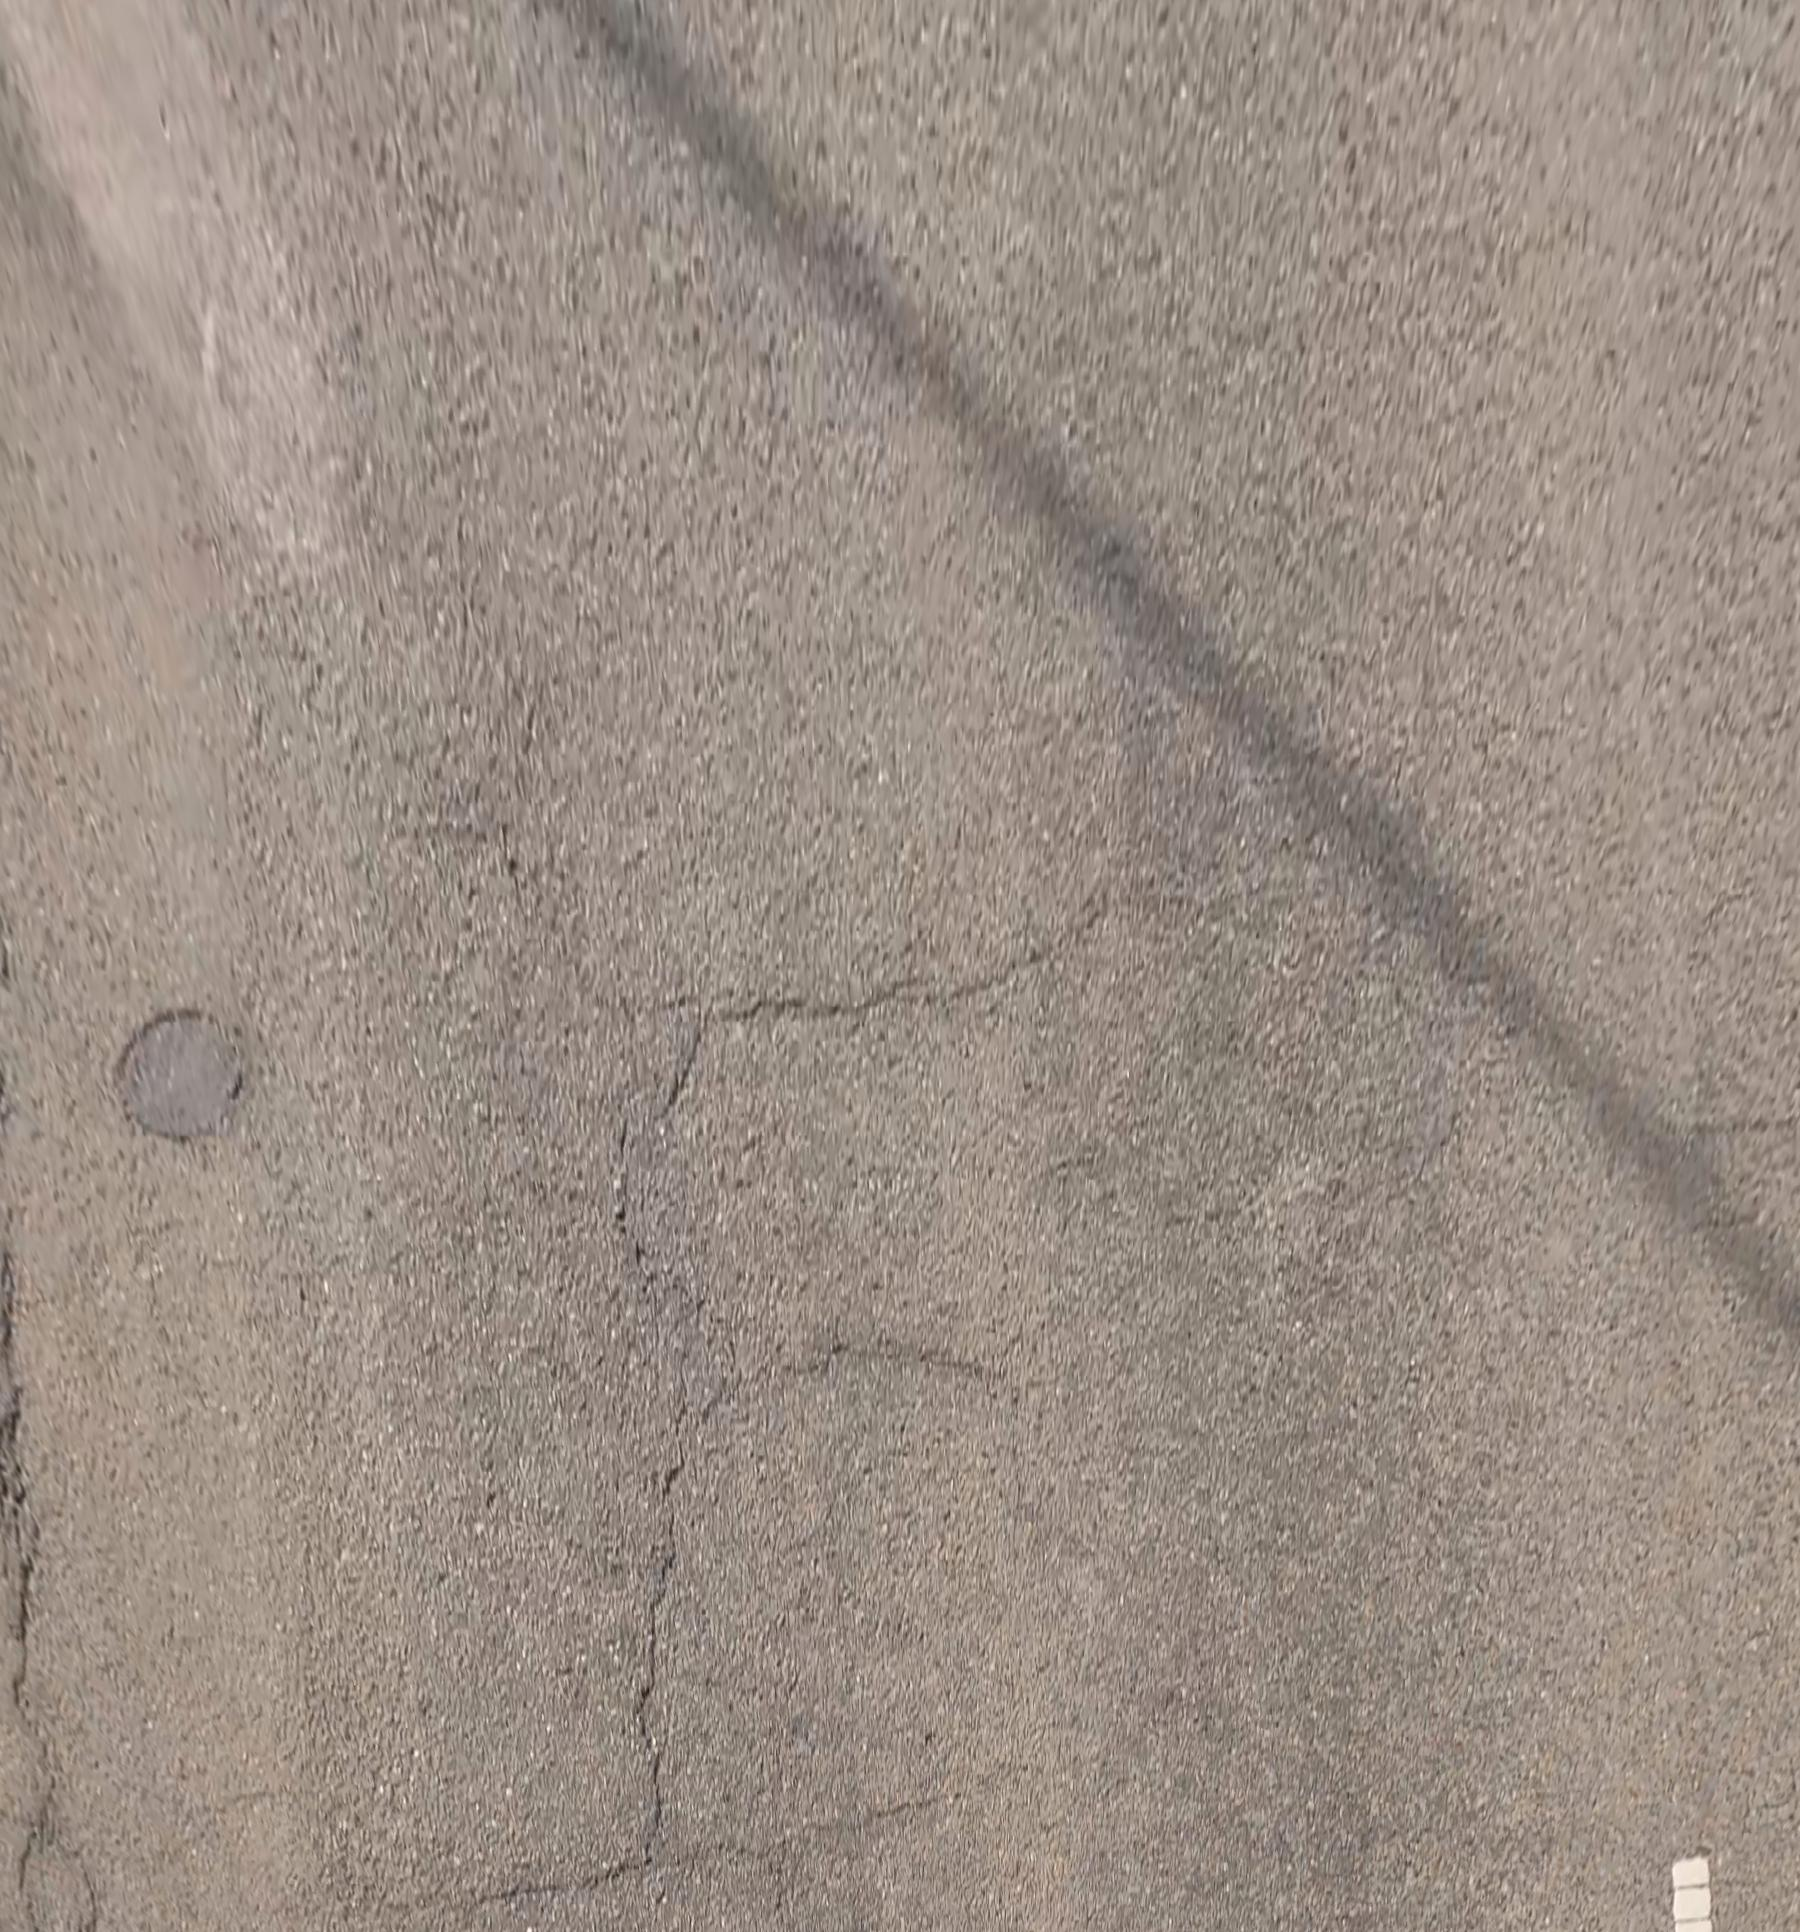pothole_patch_good: (117, 1012, 242, 1140)
